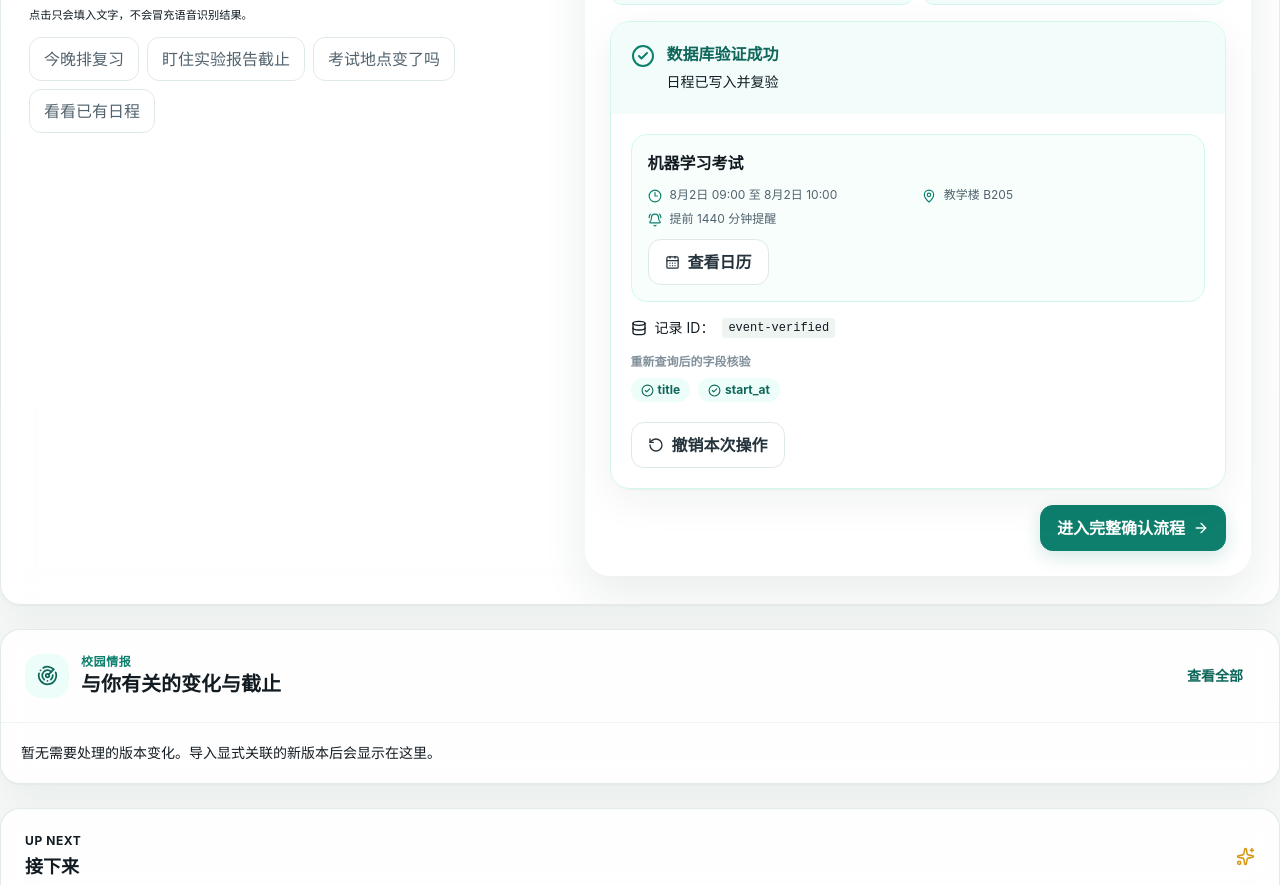
Test: dashboard business states › shows the verified Home record and binds undo to its executed action
(page scrolled)
Expected: the text "机器学习考试" is shown, [648,153,744,173]
Expected: the text "教学楼 B205" is shown, [922,187,1013,203]
Click the button "撤销本次操作": (708, 445) [631,422,785,468]
(page scrolled)
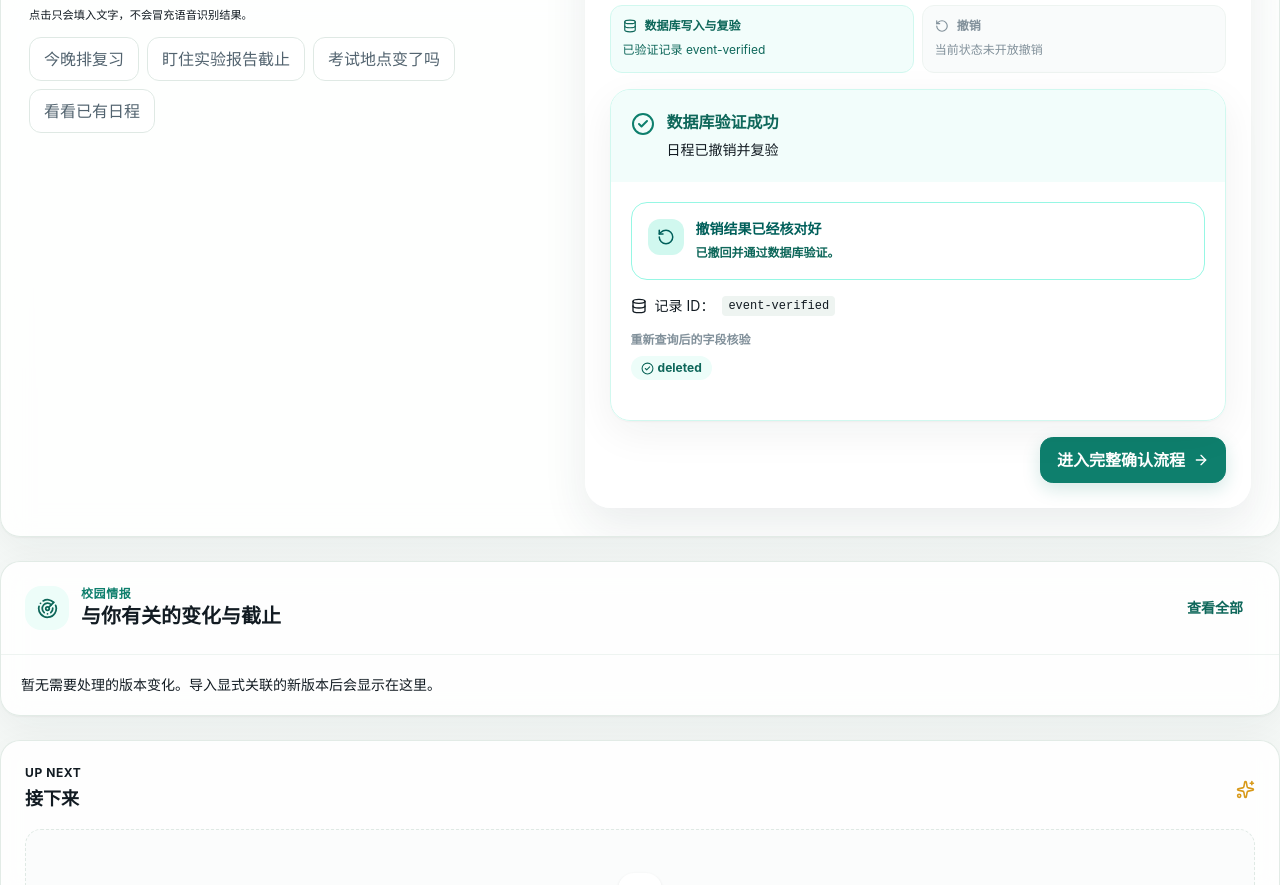
Expected: the text "日程已撤销并复验" is shown, [667,138,779,162]
